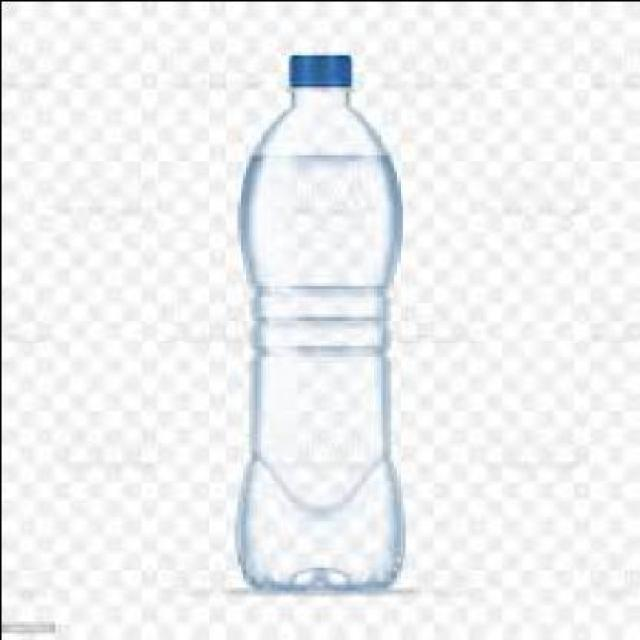PLASTIC: (233, 51, 404, 589), (285, 51, 346, 85)
